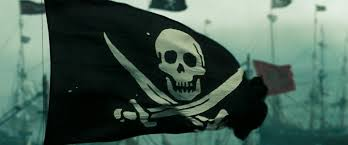Jolly Roger Flag: (34, 2, 272, 145)
